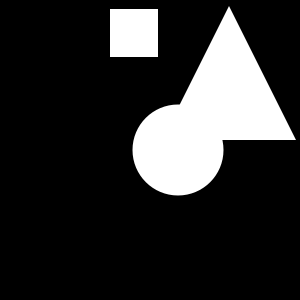circle: (110, 9, 158, 57)
rectangle: (132, 104, 224, 195)
triangle: (162, 6, 296, 140)
